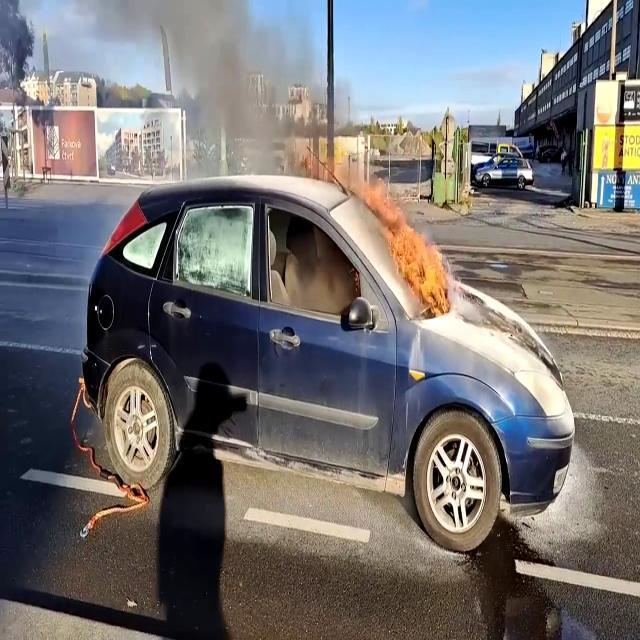Fire: (383, 213, 454, 313)
Smoke: (92, 0, 328, 173)
